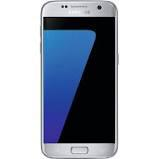Smartphone: (42, 3, 118, 159)
